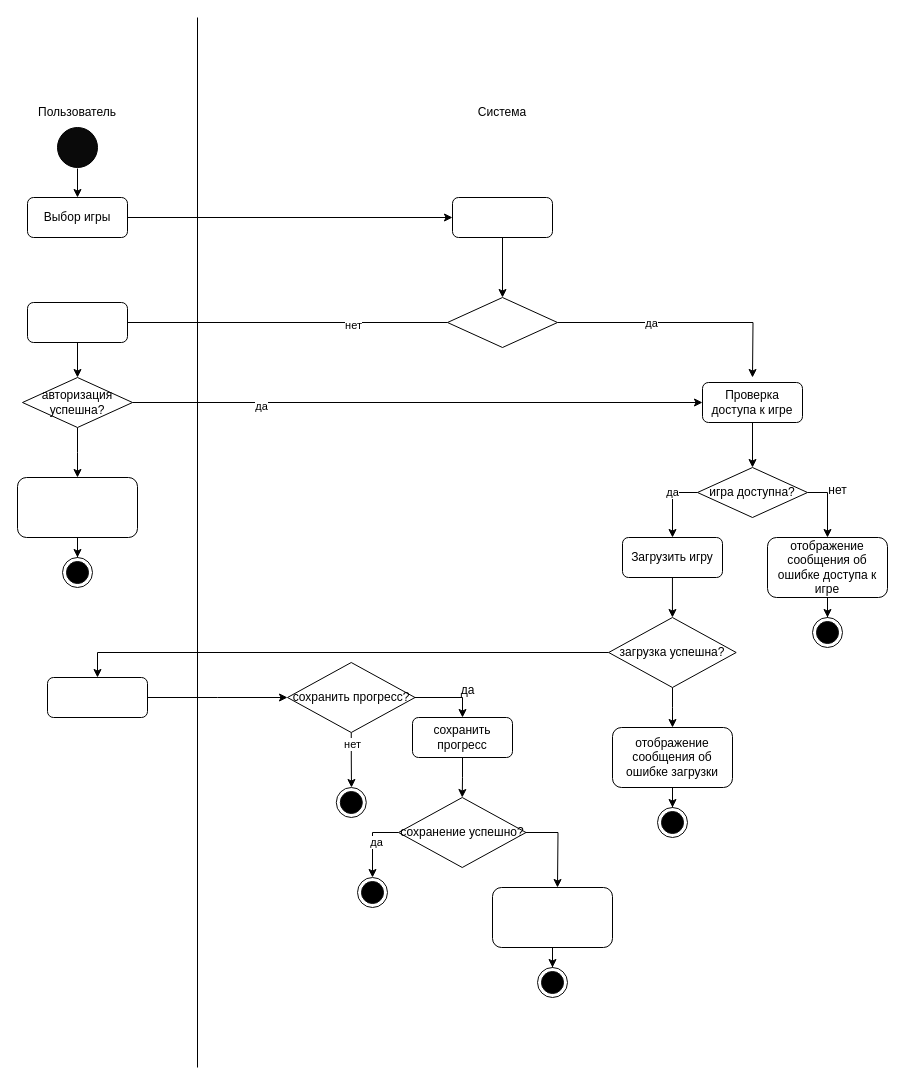
The diagram is 905 pixels wide and 1086 high, and some of its shapes have lost their labels. The shapes that lost their labels are listed below. From the top down, each one's centre as x and y in pixels, then its label:
(502,217): Проверка авторизации
(77,322): авторизоваться
(502,322): авторизован?
(77,507): отображение сообщения об ошибке авторизации
(97,697): играть в игру
(552,917): отображение сообщения об ошибке сохранения
